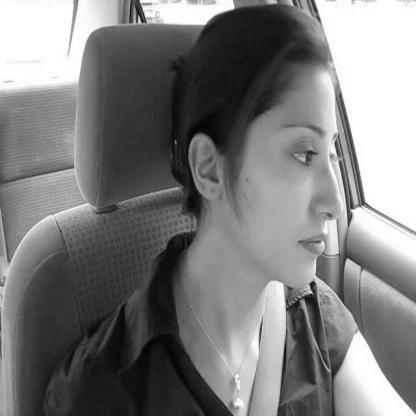seatbelt: (133, 0, 338, 416)
